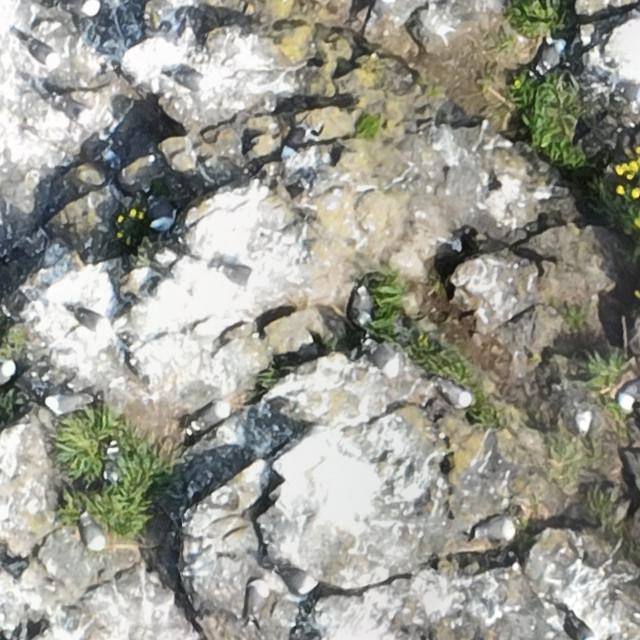umineko: (181, 400, 230, 442), (274, 564, 322, 597), (215, 261, 269, 290), (366, 341, 401, 384), (169, 67, 223, 94), (52, 94, 98, 124), (241, 580, 269, 624), (539, 40, 563, 72), (48, 396, 85, 414), (477, 519, 512, 538), (82, 517, 103, 548), (443, 386, 471, 408), (73, 309, 106, 327), (31, 43, 56, 65), (619, 379, 640, 404), (572, 619, 596, 640), (357, 289, 372, 320), (372, 0, 392, 17), (0, 361, 13, 384)
